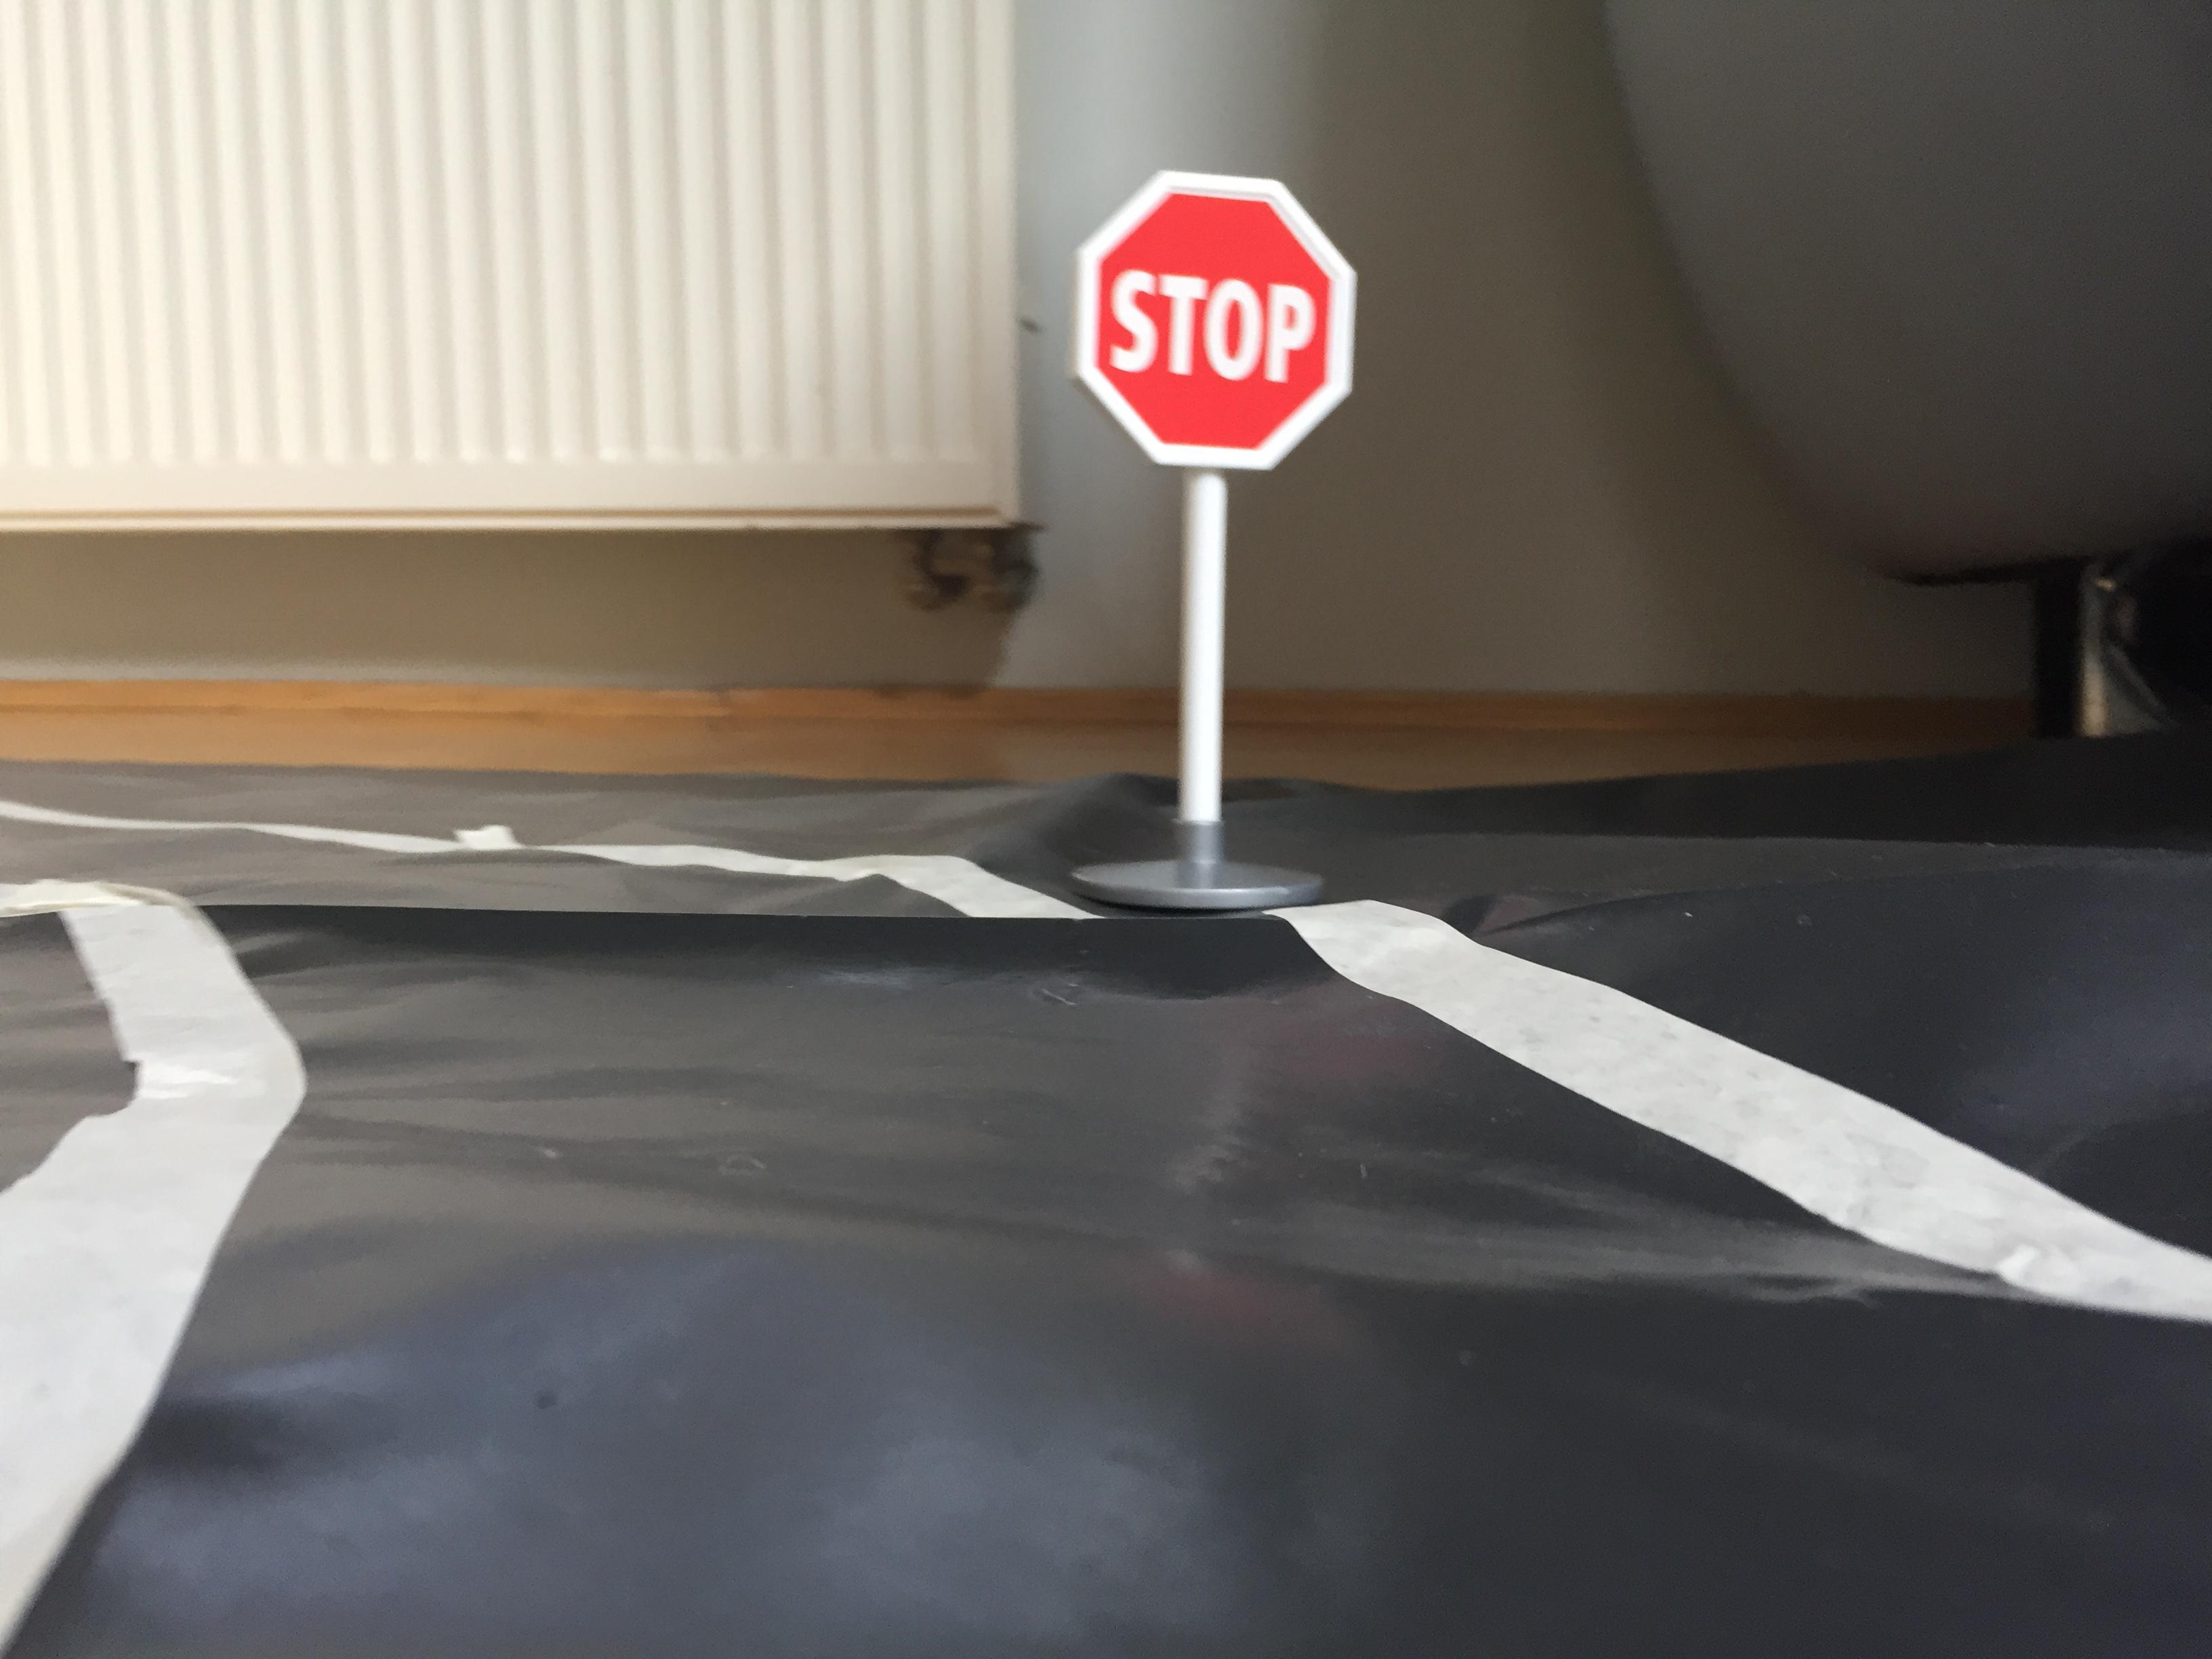stop: (1057, 159, 1366, 488)
